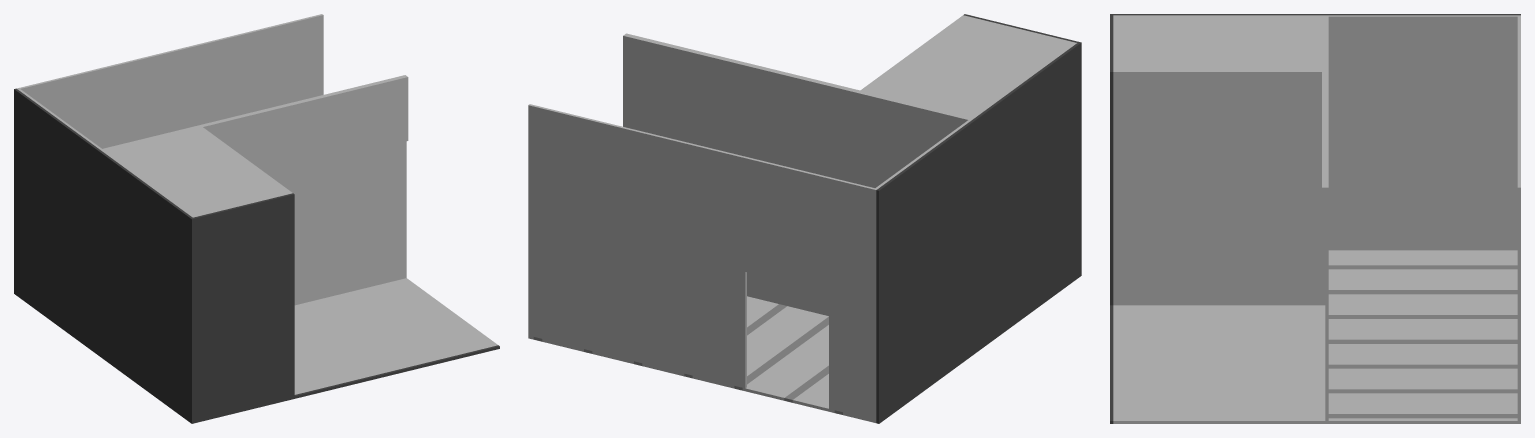
Rendered from 4x2 first (1)-3.obj.
The picture shows the model from 3 angles, left to right: view 1: azimuth 30°, elevation 25°; view 2: azimuth 150°, elevation 25°; view 3: azimuth 270°, elevation 25°; orthographic projection. The views are drawn at different scales.
Parts seen in each view (by area): view 1: 4x2 first (1)-3; view 2: 4x2 first (1)-3; view 3: 4x2 first (1)-3.
Boxes of the visible parts, left/top/right/bottom form: 4x2 first (1)-3: left=14, top=14, right=499, bottom=423; 4x2 first (1)-3: left=528, top=14, right=1081, bottom=423; 4x2 first (1)-3: left=1110, top=14, right=1520, bottom=423.
Size of the model in its own units: 126 by 80 by 126.
1 material, 1 textured.
